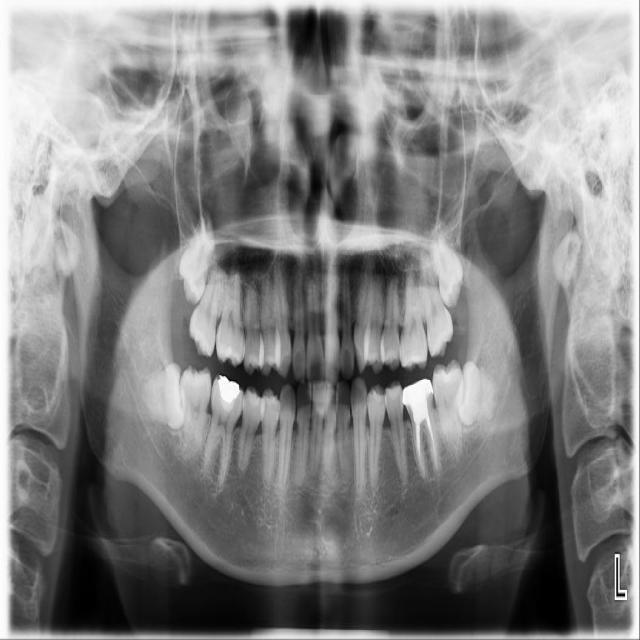3M ESPE Implant: (170, 206, 224, 307)
52: (203, 373, 250, 429), (398, 378, 438, 418)
73: (408, 404, 446, 479), (594, 594, 596, 600)
BioHorizons Implant: (418, 246, 456, 360)
BioLife Implant: (424, 217, 471, 311)
Biomet 3i Implant: (453, 359, 498, 428)
Blue Sky Bio Implant: (432, 359, 464, 463)
Caries: (186, 253, 225, 358)
Implant: (171, 364, 214, 462)
Keystone Dental Implant: (137, 361, 189, 433)
